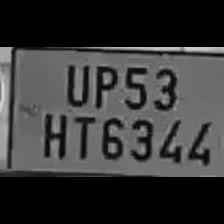3: (149, 63, 178, 109), (126, 111, 152, 160)
4: (182, 114, 212, 166), (154, 114, 182, 164)
5: (118, 62, 148, 108)
6: (96, 111, 124, 160)
H: (37, 108, 67, 160)
P: (88, 60, 118, 108)
T: (68, 110, 94, 160)
U: (60, 57, 90, 106)
